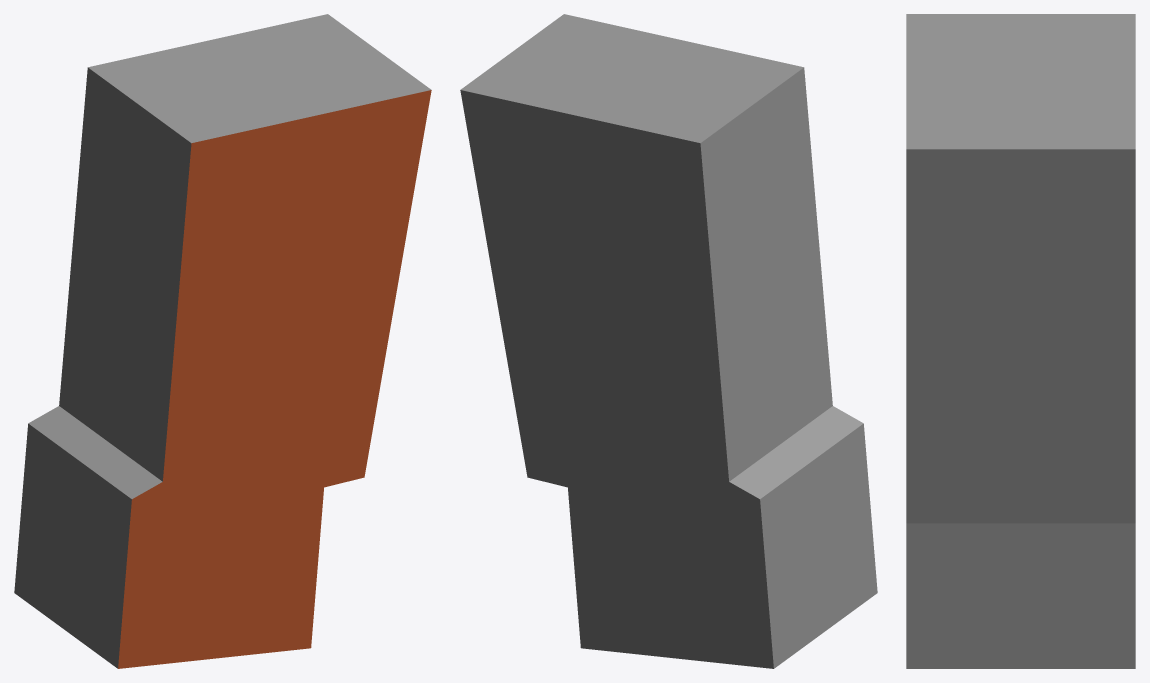
File: construction_1705_assumed_A_Casa_h6m.obj
3 renders of one model, left to right at view 1: azimuth 30°, elevation 25°; view 2: azimuth 150°, elevation 25°; view 3: azimuth 270°, elevation 25°, orthographic. The views are drawn at different scales.
Visible parts, largest first — view 1: construction_1705_assumed_A_Casa; view 2: construction_1705_assumed_A_Casa; view 3: construction_1705_assumed_A_Casa.
Boxes of the visible parts, x1,y1,x2,y2 form: construction_1705_assumed_A_Casa: (14,14,431,668); construction_1705_assumed_A_Casa: (460,14,877,668); construction_1705_assumed_A_Casa: (906,14,1135,668).
Size of the model in its own units: 10.47 by 17.04 by 6.
